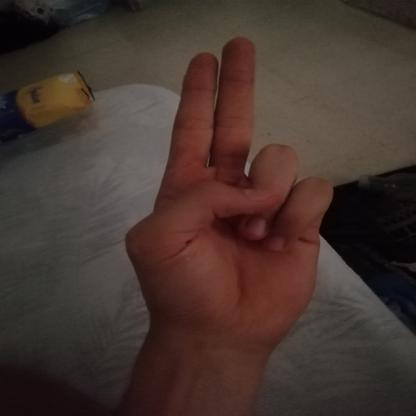TA: (105, 25, 350, 363)
